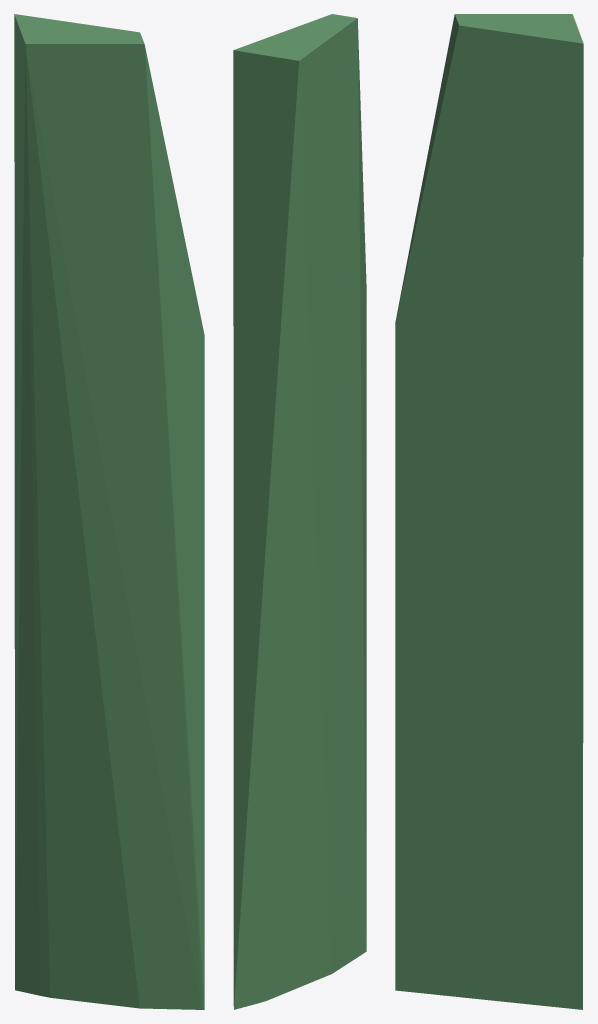
Rendered from simple_example_hole_part_6.obj.
The picture shows the model from 3 angles, left to right: view 1: azimuth 90°, elevation 25°; view 2: azimuth 150°, elevation 25°; view 3: azimuth 270°, elevation 25°; orthographic projection.
Size of the model in its own units: 2.75 by 41.73 by 7.37.
